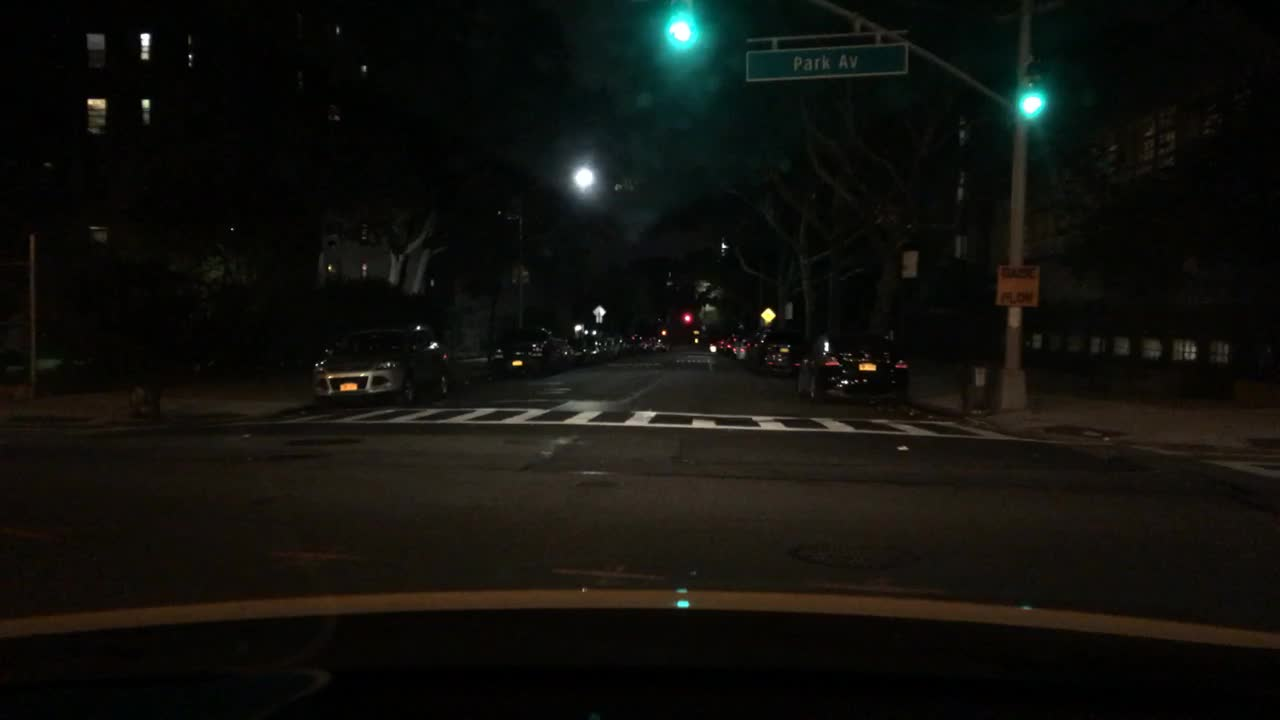car: (304, 320, 454, 412), (794, 325, 912, 406), (485, 326, 557, 381), (746, 328, 807, 373), (727, 334, 761, 358), (576, 333, 601, 362), (556, 333, 576, 369), (623, 331, 648, 354), (601, 334, 623, 359), (707, 328, 727, 354), (717, 332, 743, 352), (648, 334, 666, 354)
traffic light: (1021, 75, 1045, 121), (668, 12, 698, 45), (682, 311, 692, 324)
traffic sign: (744, 40, 908, 84), (996, 264, 1041, 309), (901, 247, 917, 279), (761, 306, 775, 322), (594, 304, 605, 323), (785, 302, 794, 320)
